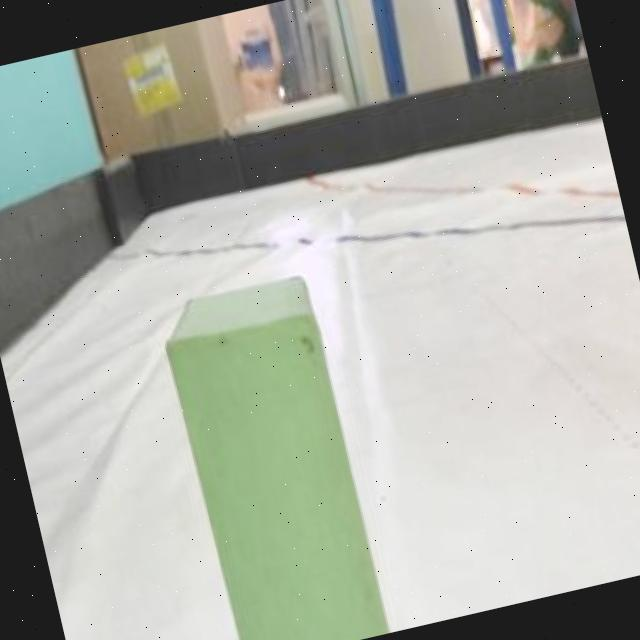greenbox: (155, 268, 388, 640)
